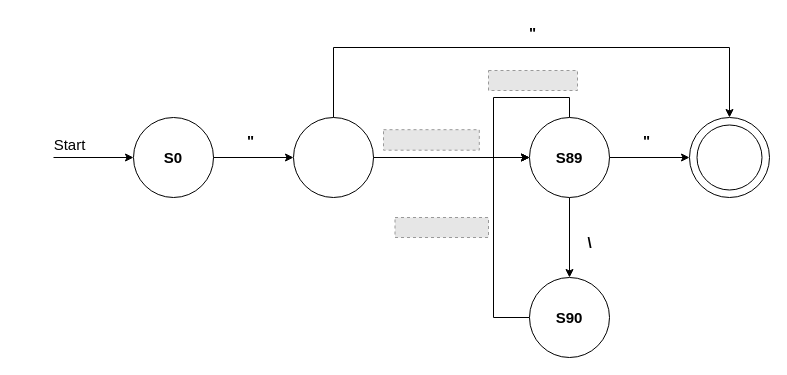
This 787x375 diagram has some shape labels left out. Grey dashed boxes stand in for pictures. Here are the shapes that lost their labels. From the top down, the box of each, then its label:
(292, 116, 374, 198): S88
(696, 124, 762, 190): S91
